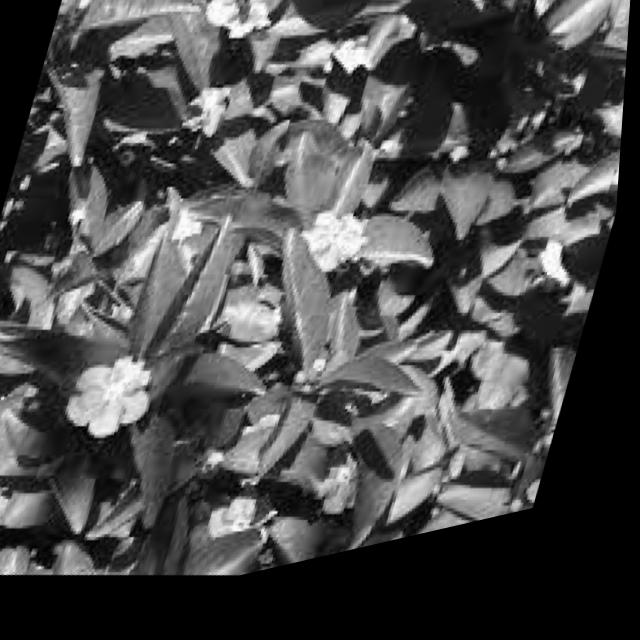Flower: (280, 197, 399, 324), (60, 332, 174, 461), (312, 453, 385, 546), (182, 80, 251, 162), (210, 498, 287, 570)
